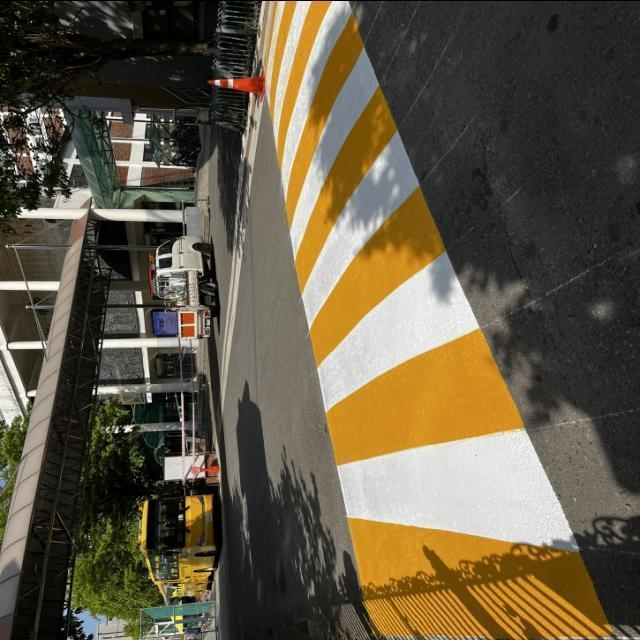speedbreaker: (255, 0, 617, 640)
